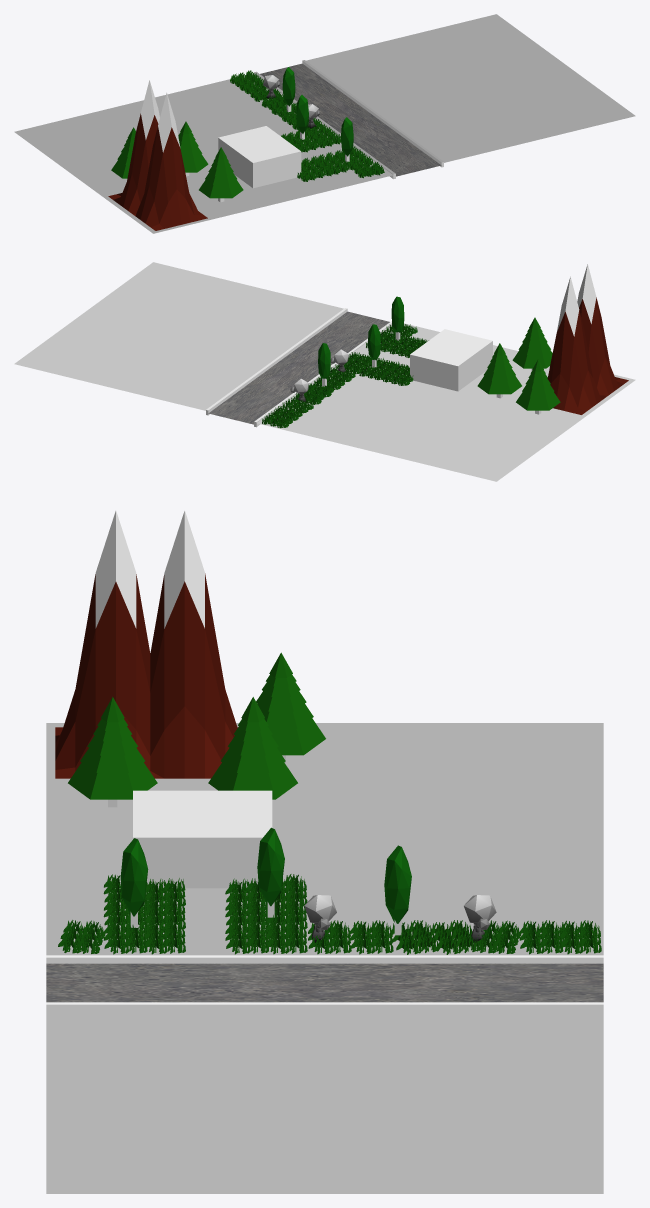
File: Module_5_SM.FBX
3 renders of one model, top to bottom at view 1: azimuth 30°, elevation 25°; view 2: azimuth 150°, elevation 25°; view 3: azimuth 270°, elevation 25°, orthographic. The views are drawn at different scales.
Parts seen in each view (by area): view 1: Module_5_SM_LOD0; view 2: Module_5_SM_LOD0; view 3: Module_5_SM_LOD0.
Boxes of the visible parts, <box> form: Module_5_SM_LOD0: <box>14,14,635,233</box>; Module_5_SM_LOD0: <box>14,262,635,481</box>; Module_5_SM_LOD0: <box>46,510,603,1193</box>.
Bounding box in the file's own units: 10000 × 5000 × 2484.
